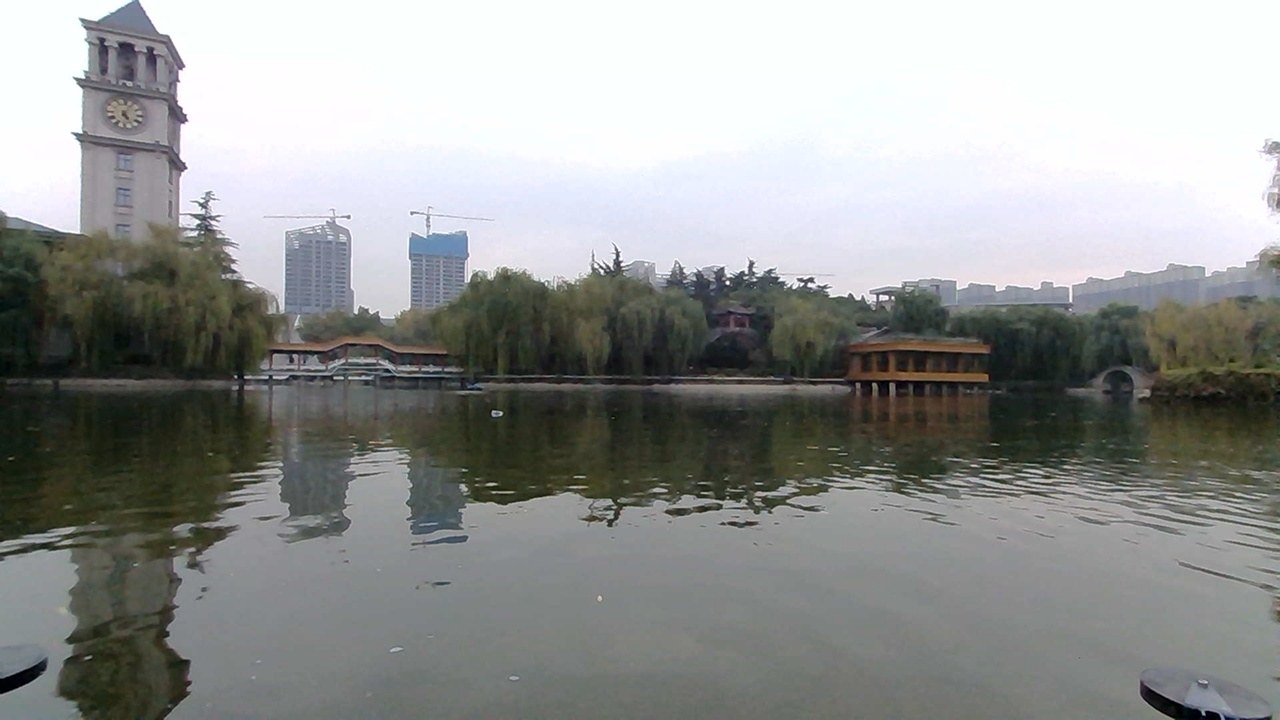bottle: (478, 399, 523, 423)
